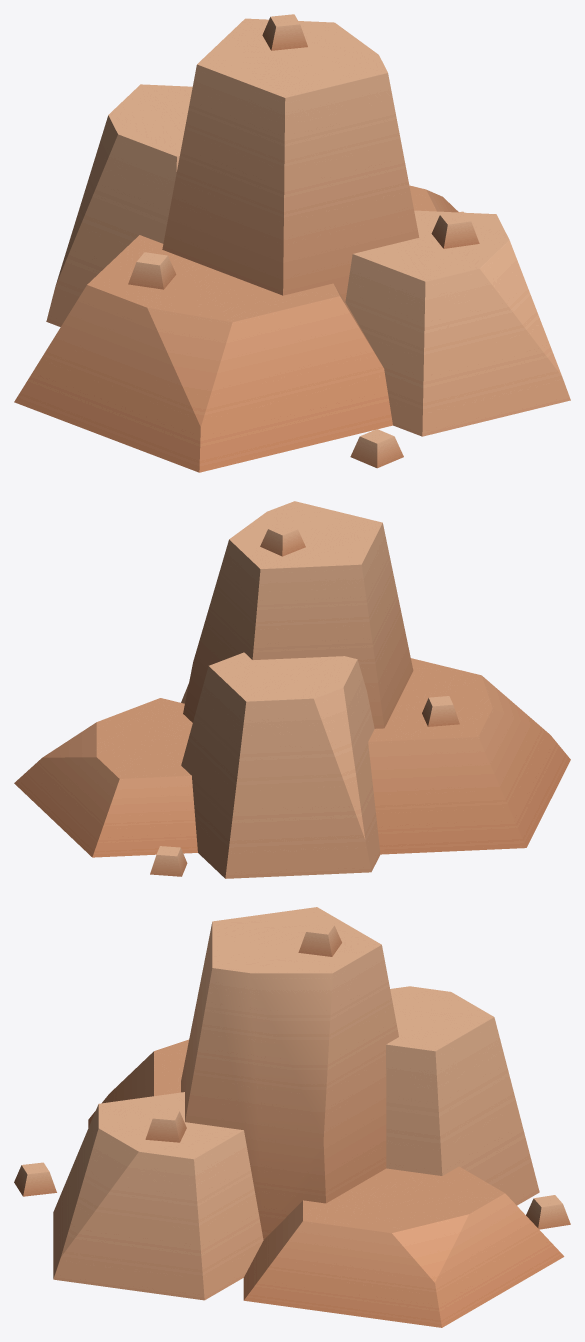
File: rock-sand-b.glb
The picture shows the model from 3 angles, top to bottom: view 1: azimuth 30°, elevation 25°; view 2: azimuth 150°, elevation 25°; view 3: azimuth 270°, elevation 25°; orthographic projection. The views are drawn at different scales.
Parts seen in each view (by area): view 1: rock-sand-b; view 2: rock-sand-b; view 3: rock-sand-b.
Part boxes in pixels (<box>): rock-sand-b: <box>14,14,570,472</box>; rock-sand-b: <box>14,501,570,878</box>; rock-sand-b: <box>14,907,570,1327</box>.
Size of the model in its own units: 0.7991 by 0.4486 by 0.7895.
Materials: 1 (1 with a texture image).
